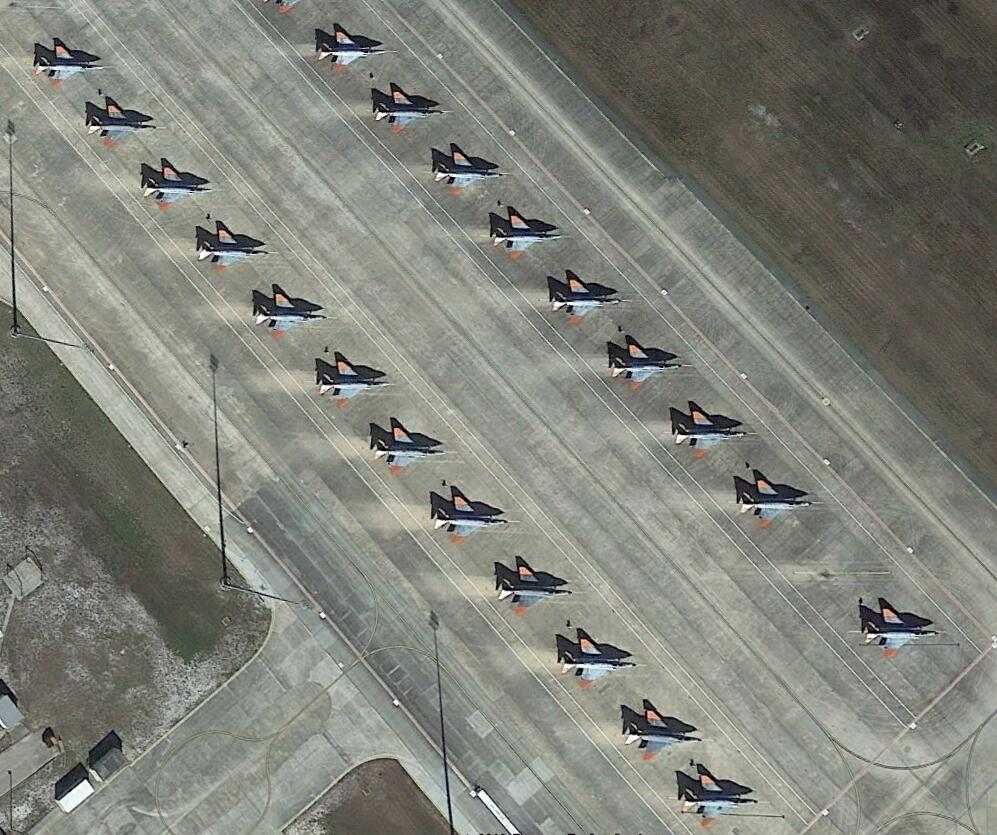A5: (370, 422, 459, 477), (620, 709, 707, 765), (859, 606, 947, 661), (430, 492, 517, 547), (557, 636, 644, 691), (735, 476, 822, 530), (681, 772, 763, 828), (191, 224, 279, 274), (673, 408, 756, 461), (546, 273, 625, 326), (315, 358, 394, 411), (497, 566, 579, 617), (430, 147, 509, 199), (605, 339, 683, 391), (489, 211, 569, 260), (85, 103, 167, 150), (253, 290, 327, 342), (372, 90, 452, 137), (141, 163, 216, 213), (316, 28, 393, 74), (34, 45, 109, 92)
